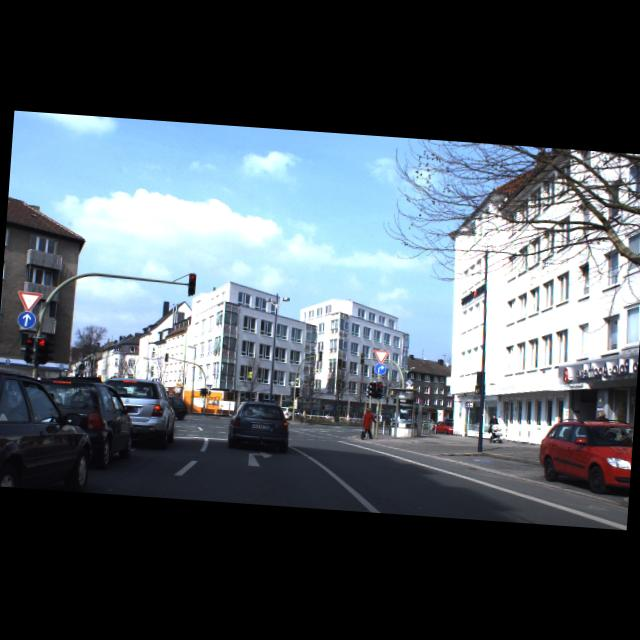mandatory: (17, 310, 36, 328), (374, 362, 386, 374)
other: (16, 290, 42, 313), (372, 349, 389, 364)
